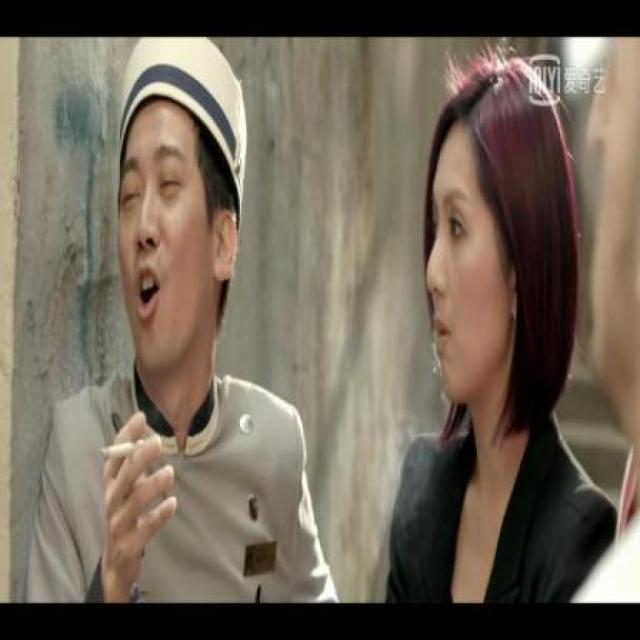rokok: (100, 438, 164, 458)
